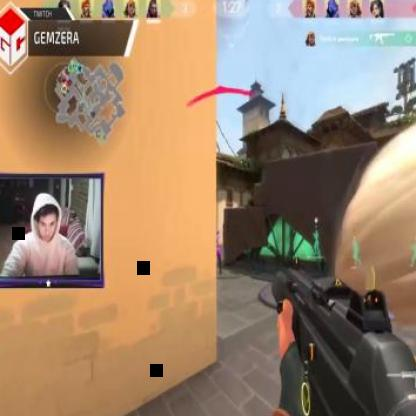enemy: (209, 226, 222, 276)
enemy_head: (211, 227, 217, 234)
